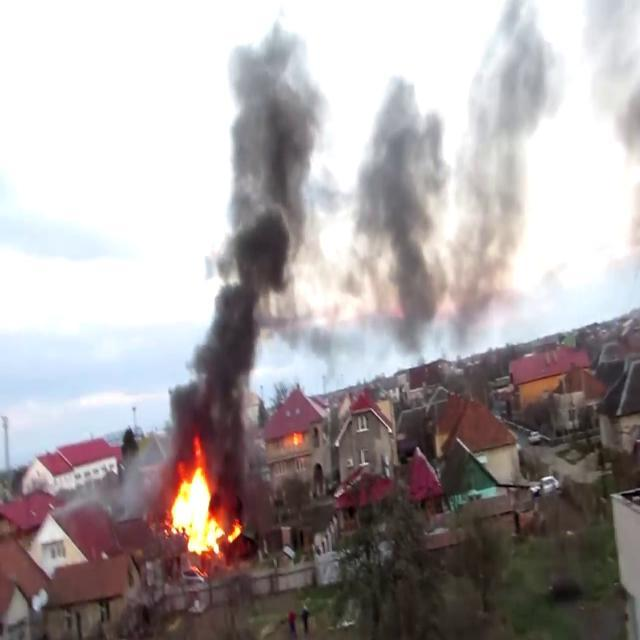Fire: (164, 454, 230, 558)
Smoke: (342, 1, 640, 338), (164, 4, 332, 480)
